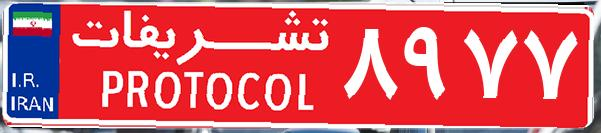7: (460, 20, 520, 115), (520, 20, 580, 115)
8: (340, 20, 400, 115)
9: (400, 20, 460, 115)
تشریفات: (60, 8, 340, 125)
